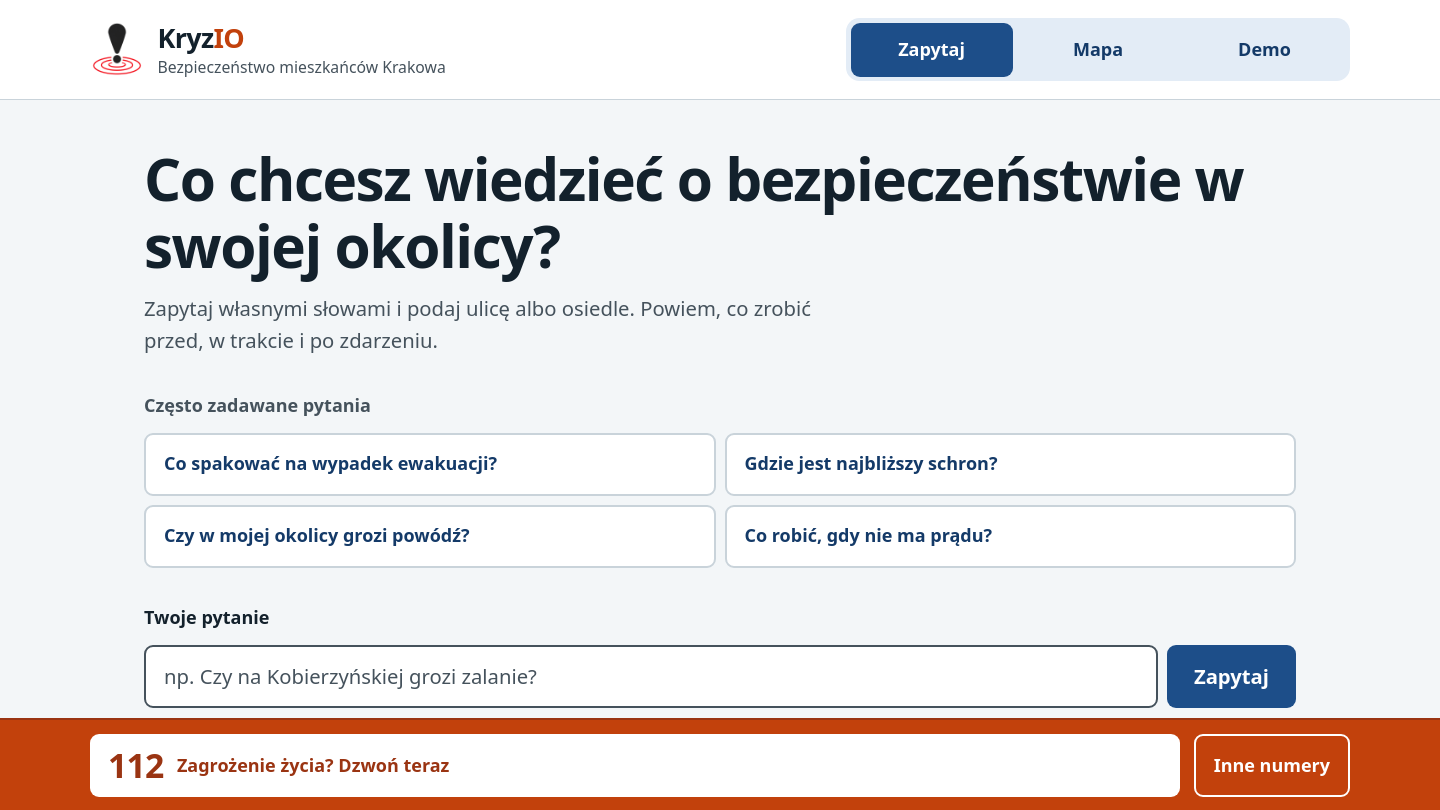
Demo tab › explains a rejected demo token
The image size is (1440, 810).
Click the tab "Demo".
click(1264, 50)  # box [1184, 22, 1346, 76]
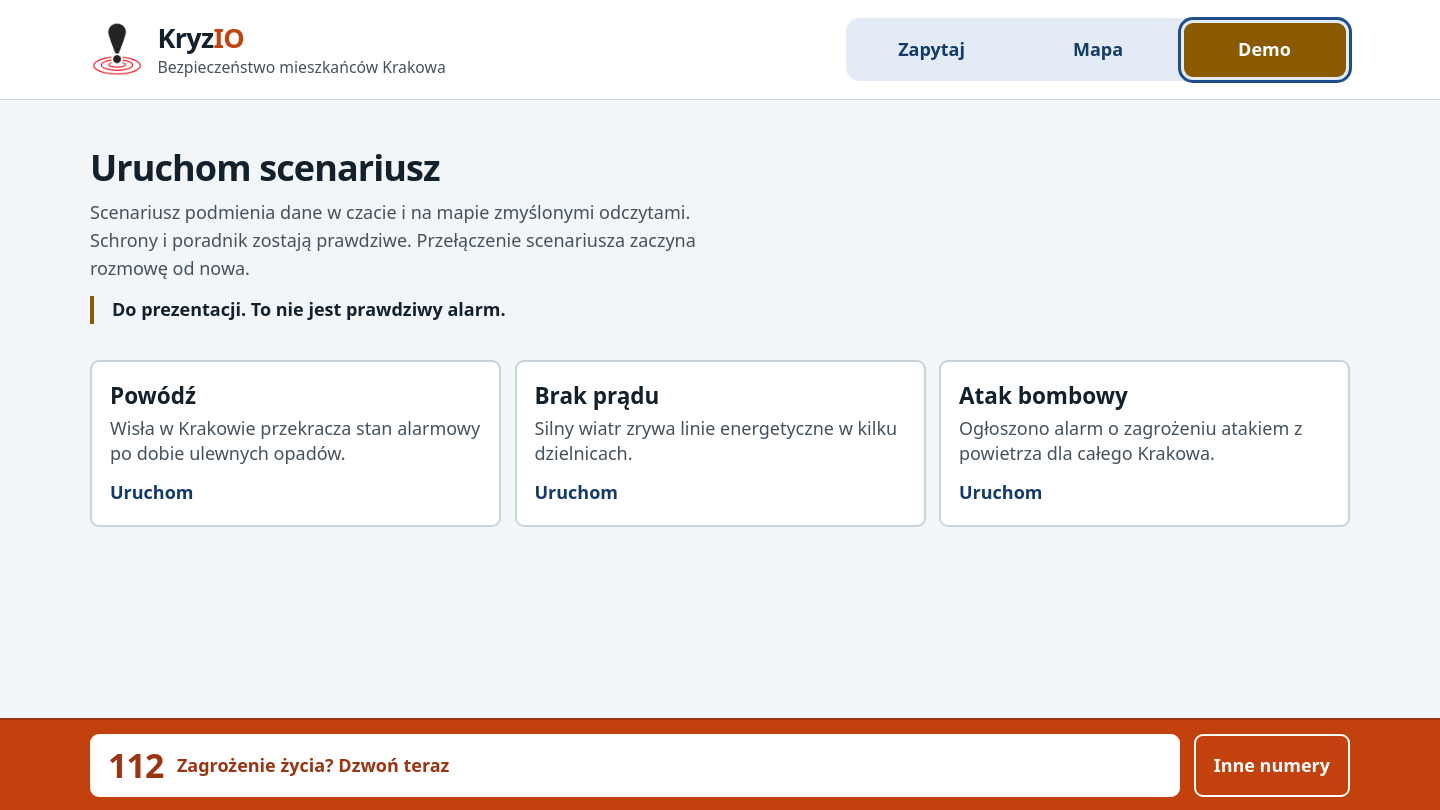
Click the button "Powódź".
click(296, 444)  # box [90, 360, 501, 527]
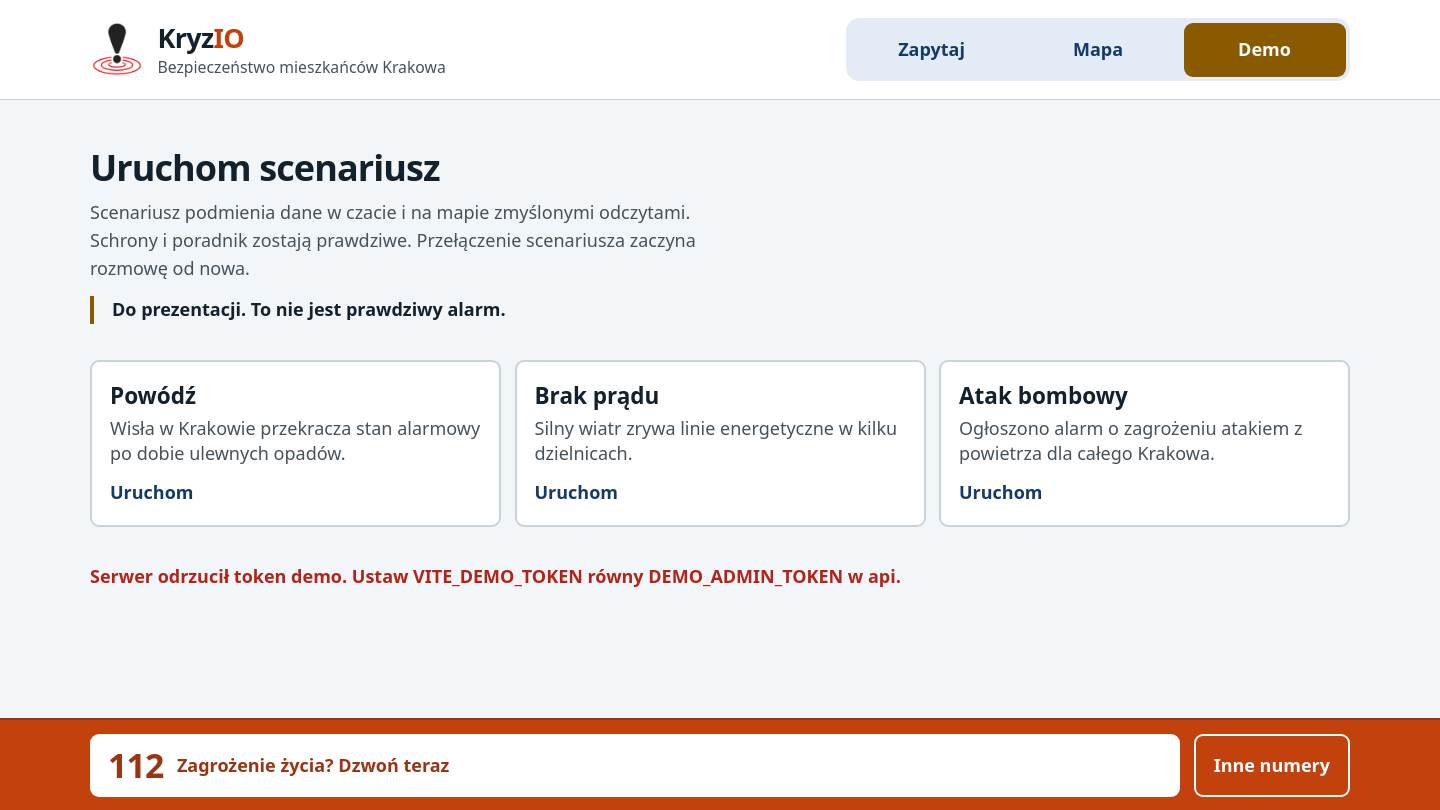
Expected: the text "Serwer odrzucił token demo" is shown, [90, 564, 901, 588]
